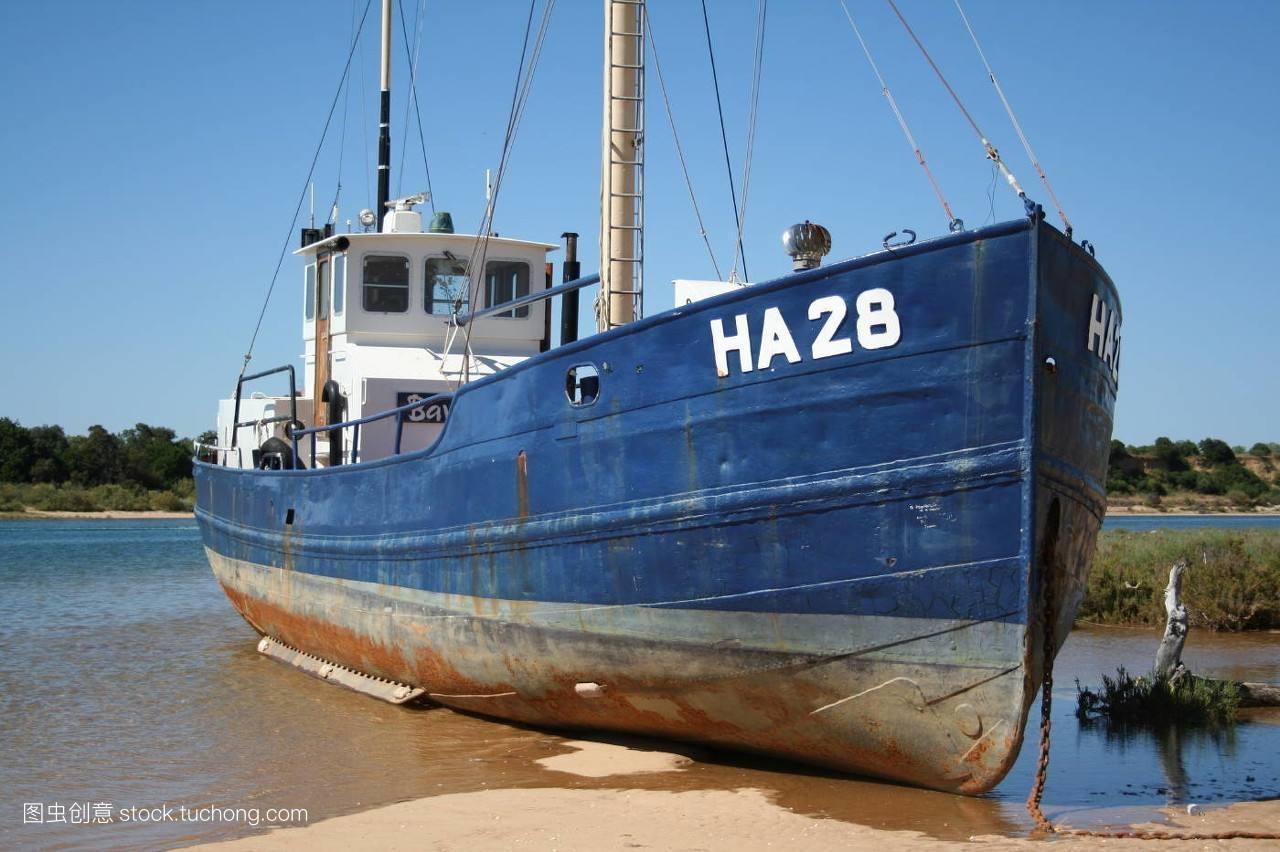otherboat: (188, 164, 1119, 809)
